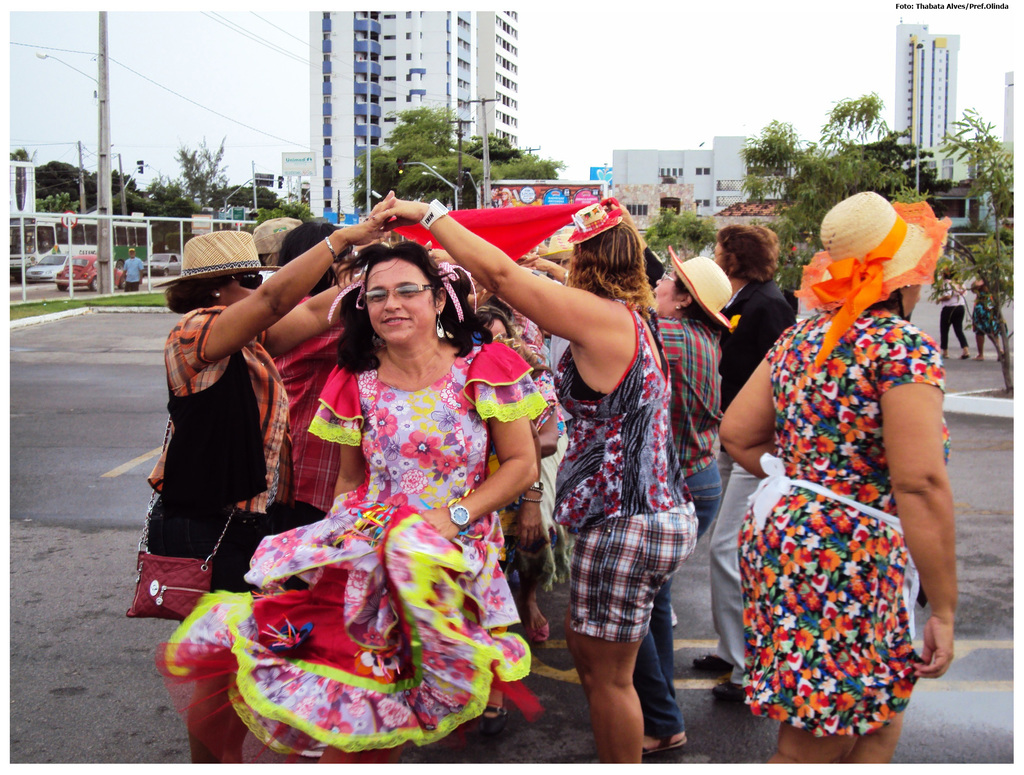Footwear: (691, 653, 737, 676), (714, 678, 749, 704), (481, 707, 506, 735), (974, 355, 985, 360)
